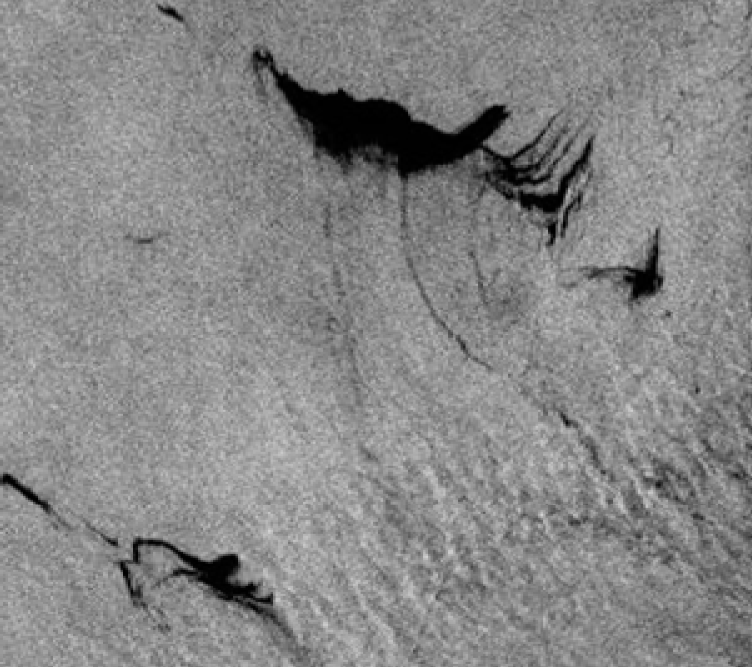anomaly: (222, 57, 634, 239)
